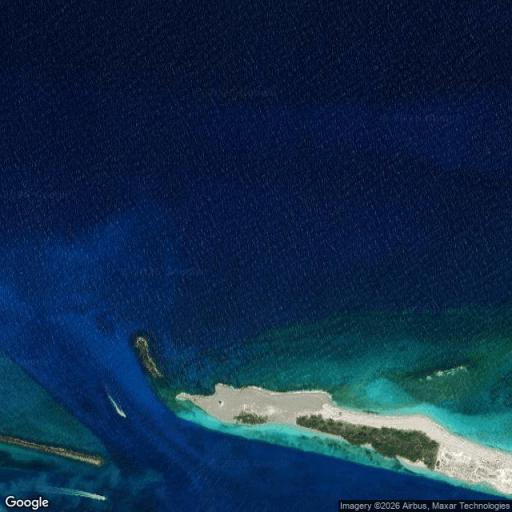ship: (30, 484, 115, 512), (95, 382, 134, 431)
